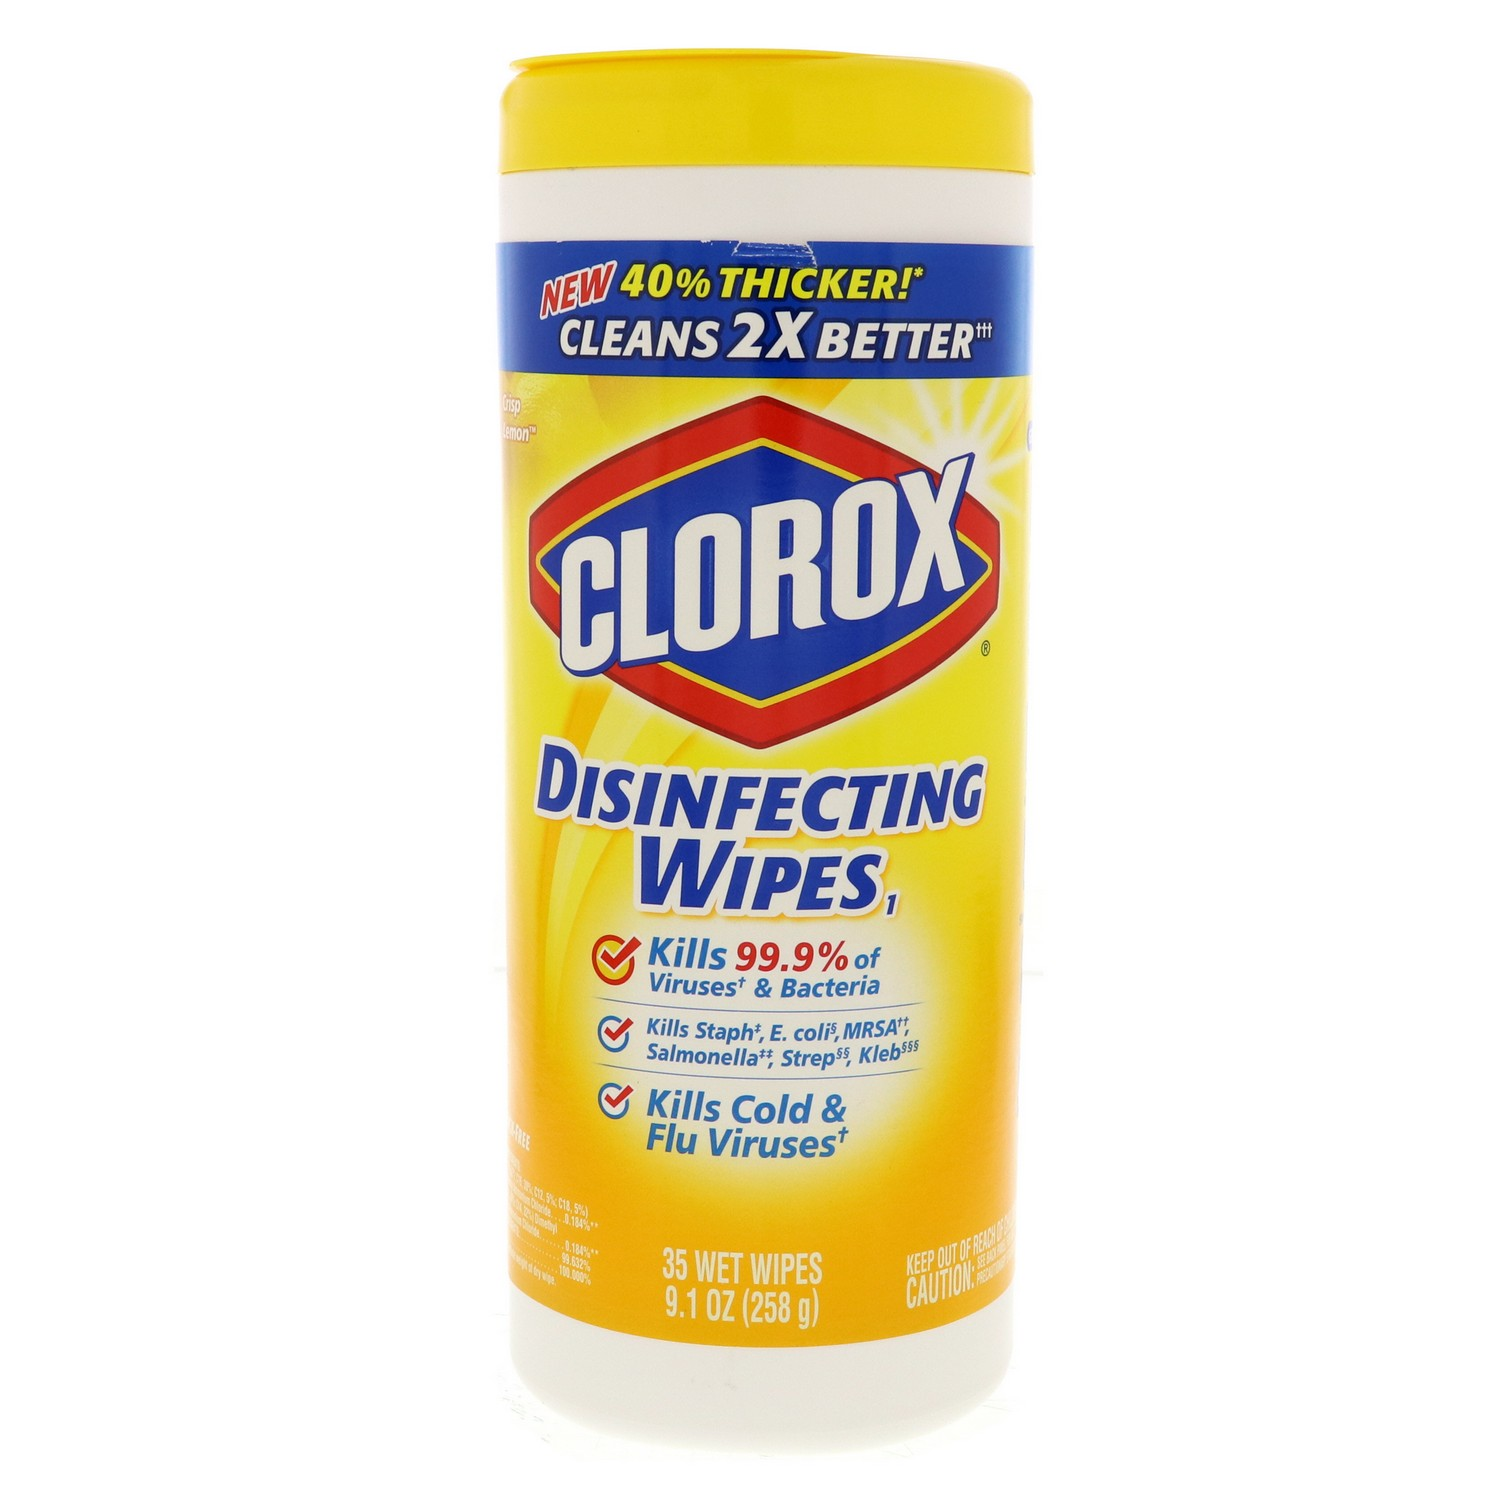Wipes: (479, 34, 1041, 1464)
